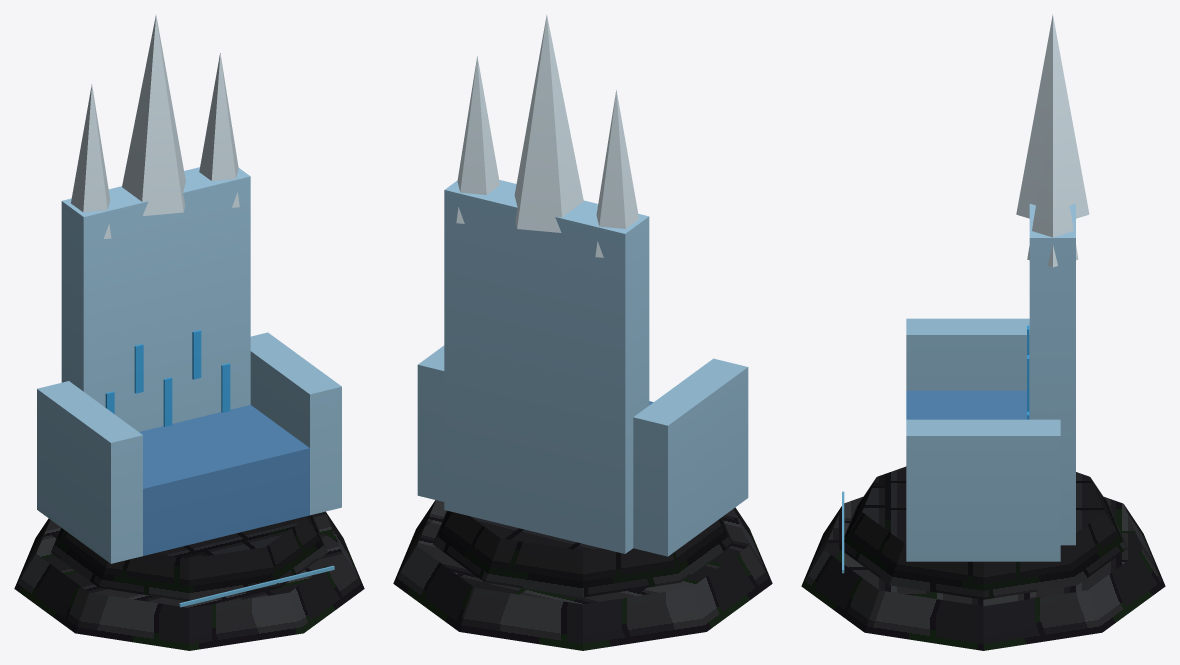
The model's file is kael_perch.glb.
3 views of the same model, side by side, from view 1: azimuth 30°, elevation 25°; view 2: azimuth 150°, elevation 25°; view 3: azimuth 270°, elevation 25° (orthographic). The views are drawn at different scales.
Visible parts, largest first — view 1: kael_perch; view 2: kael_perch; view 3: kael_perch.
Part boxes in pixels (left/top/right/bottom): kael_perch: left=14, top=14, right=364, bottom=650; kael_perch: left=393, top=14, right=772, bottom=650; kael_perch: left=801, top=14, right=1165, bottom=650.
Size of the model in its own units: 4.66 by 8 by 4.73.
Materials: 3 (1 with a texture image).
